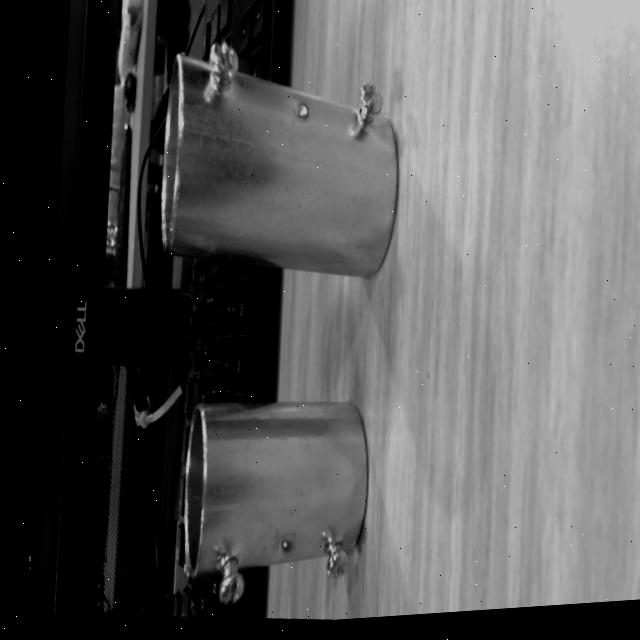Co_Lon: (148, 35, 412, 283)
Co_Nho: (182, 402, 366, 604)
